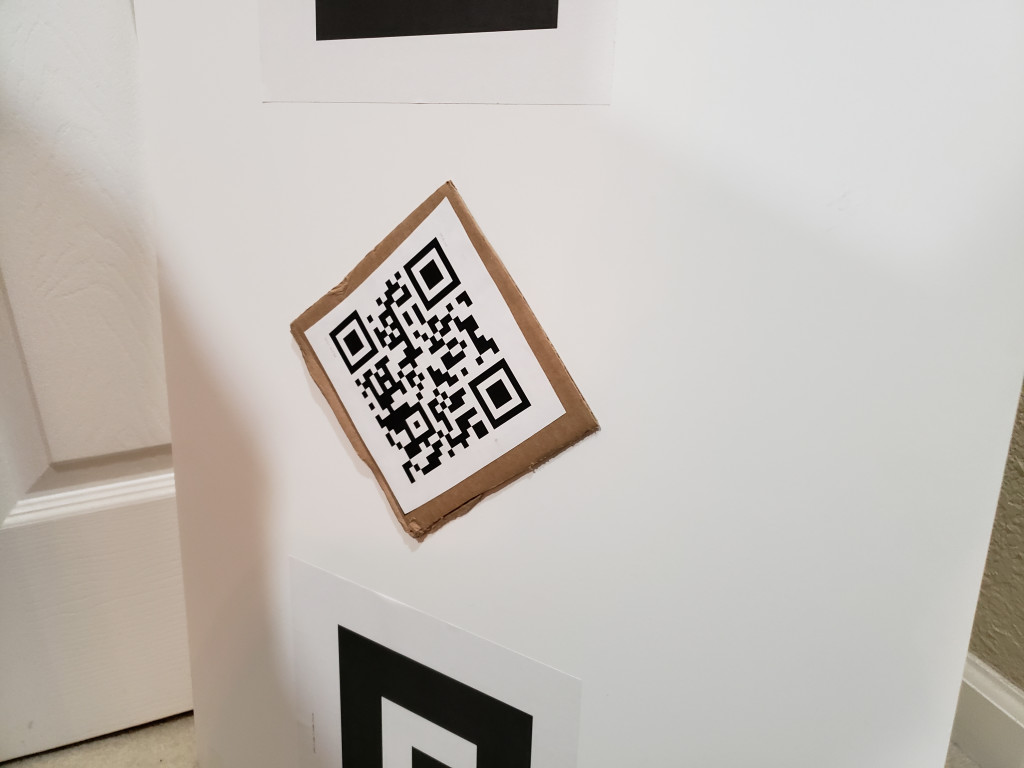QR_CODE: (311, 227, 551, 491)
